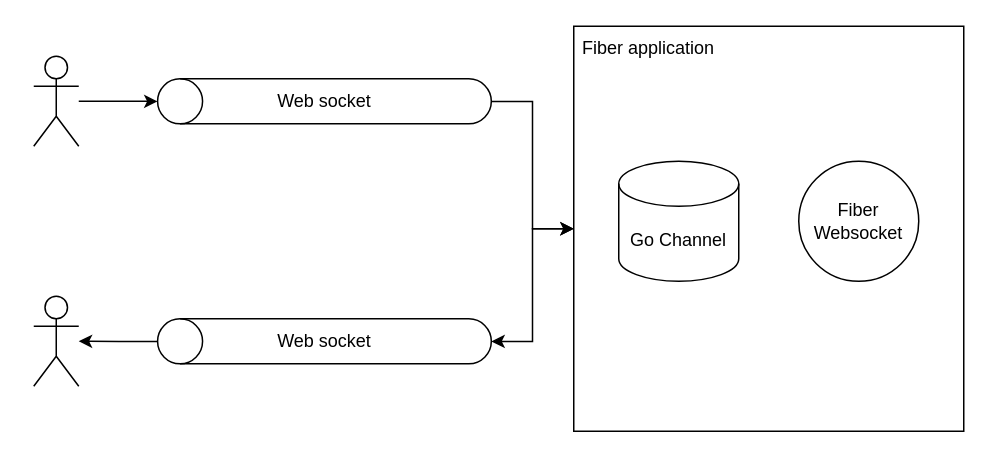
Some shapes in this 990 by 458 pixel diagram are drawn without their labels. Each missing label, with the centre of its shape:
"Client 1" goes at point 55,100.
"Client 2" goes at point 55,340.
